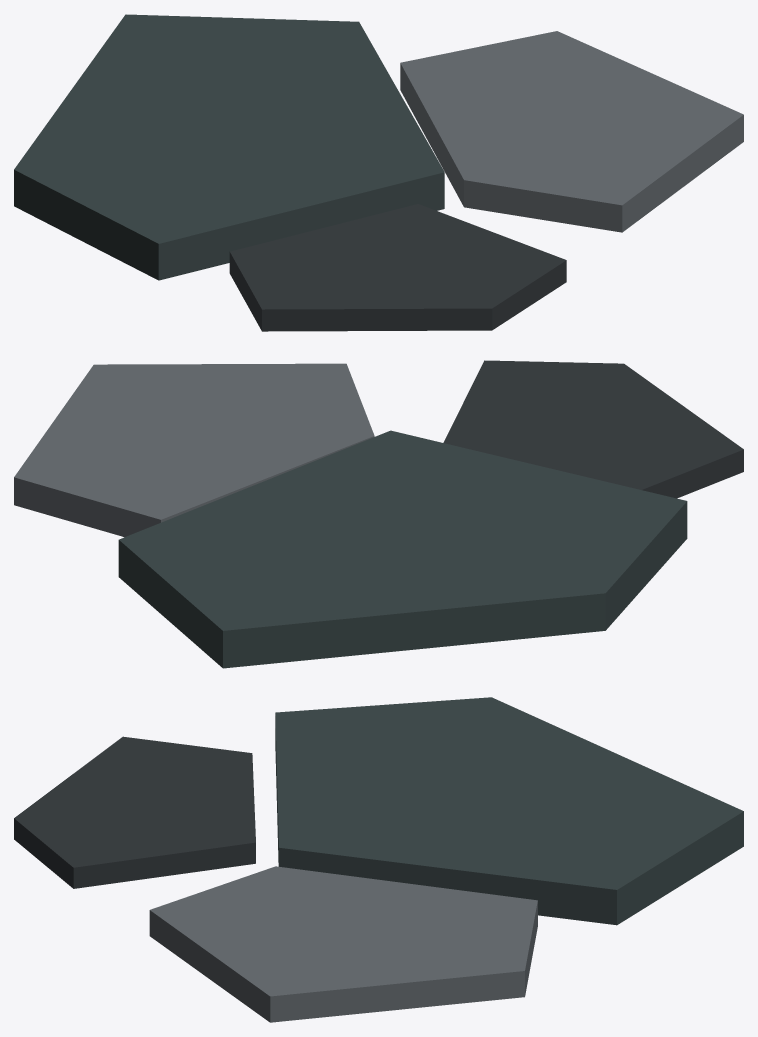
Rendered from TP_Stone04.fbx.
3 renders of one model, top to bottom at view 1: azimuth 30°, elevation 25°; view 2: azimuth 150°, elevation 25°; view 3: azimuth 270°, elevation 25°, orthographic. The views are drawn at different scales.
Visible parts, largest first — view 1: TP_Stone04; view 2: TP_Stone04; view 3: TP_Stone04.
Boxes of the visible parts, x1=… form: TP_Stone04: x1=14, y1=14, x2=743, y2=331; TP_Stone04: x1=14, y1=360, x2=743, y2=668; TP_Stone04: x1=14, y1=697, x2=743, y2=1022.
Size of the model in its own units: 50.23 by 2.97 by 53.65.
1 material, 1 textured.
